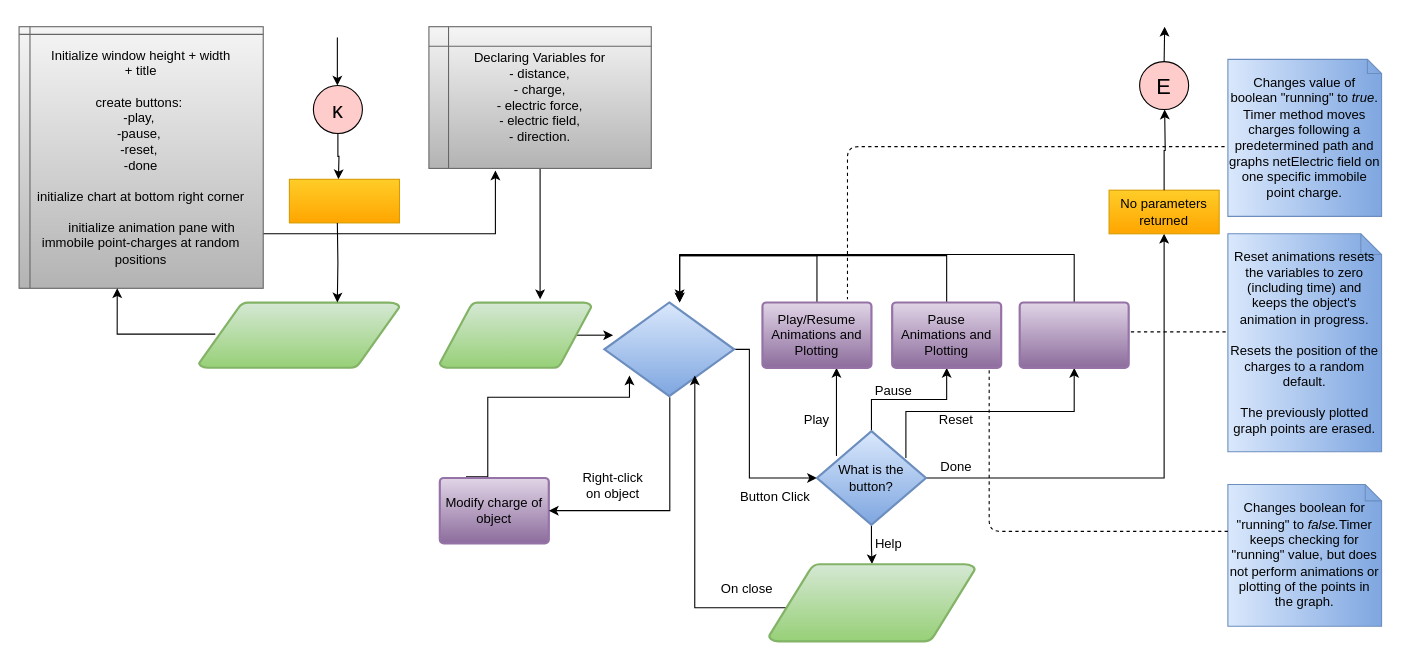
Image size: 1401x662. Some labels were removed from this diagram. The centre of each missing label's shape, as x and y in pixels:
"Display alert message with the respective help message" belongs at pixel 871 602.
"Hide the Main Menu" belongs at pixel 298 334.
"No parameters passed" belongs at pixel 343 200.
"Reset Animations and Plot to Default" belongs at pixel 1073 334.
"Show the animation window" belongs at pixel 515 334.
"User Interaction Type" belongs at pixel 669 349.
